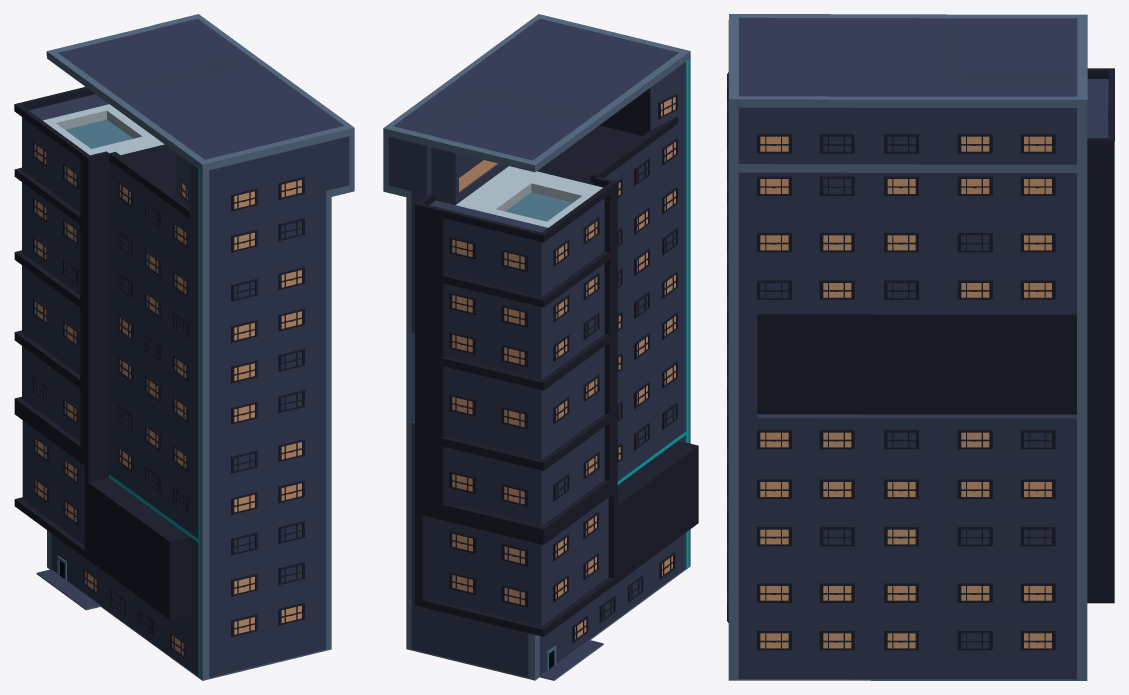
The model's file is Building_Skyscraper05.fbx.
The picture shows the model from 3 angles, left to right: view 1: azimuth 30°, elevation 25°; view 2: azimuth 150°, elevation 25°; view 3: azimuth 270°, elevation 25°; orthographic projection. The views are drawn at different scales.
Parts seen in each view (by area): view 1: Cube.573; view 2: Cube.573; view 3: Cube.573.
Part boxes in pixels (x1=…): Cube.573: x1=14, y1=14, x2=354, y2=680; Cube.573: x1=383, y1=14, x2=698, y2=680; Cube.573: x1=727, y1=14, x2=1114, y2=680.
Size of the model in its own units: 1490 by 4223 by 2496.
